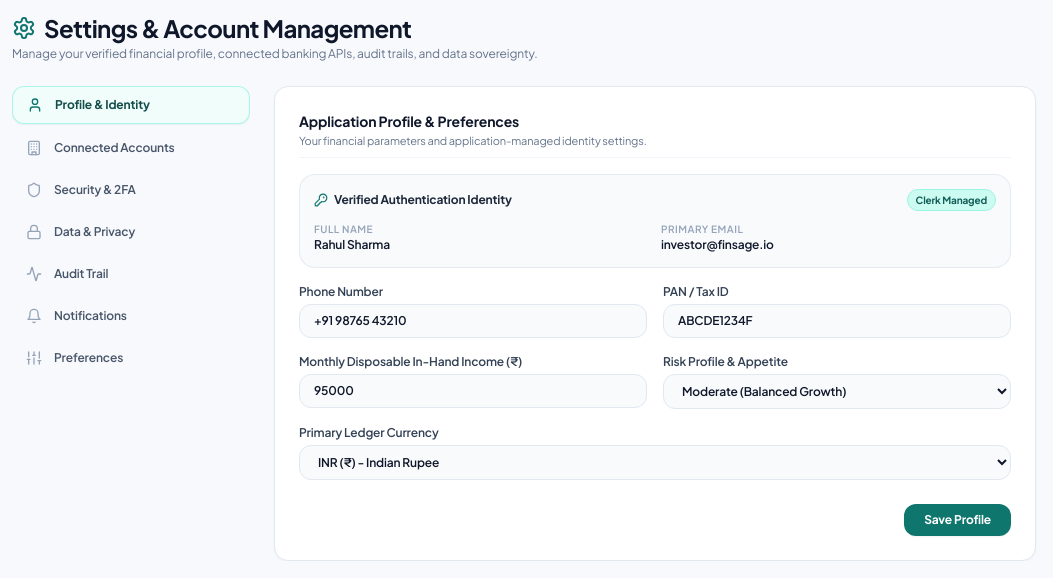
Test: Settings & Data Management Integration (Phase 5) › switches to Audit Trail tab and displays immutable security records
// Switch to Audit tab
Click the button "Audit Trail" at (131,274), box [12,256,250,292]
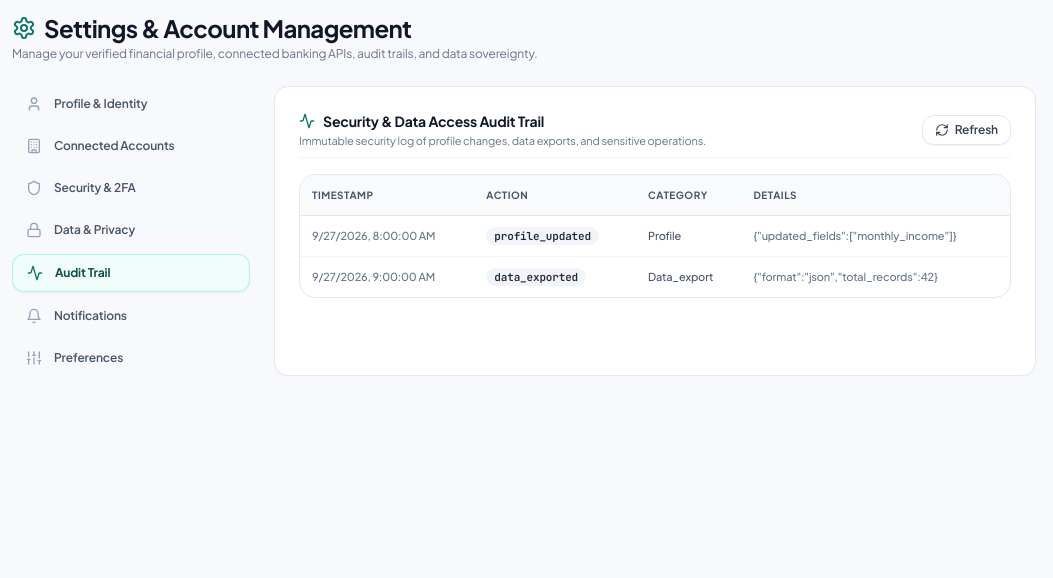
Expected: the heading "Security & Data Access Audit Trail" is shown, [299,112,544,130]
Expected: the text "profile_updated" is shown, [486,227,599,245]
Expected: the text "data_exported" is shown, [486,268,586,286]
